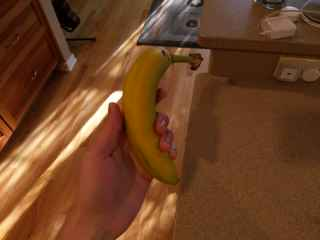banana: (122, 44, 205, 188)
